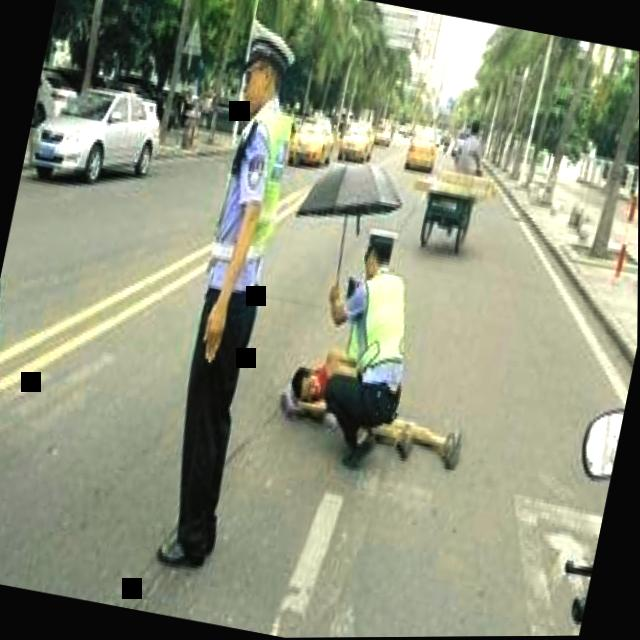Fall-Detected: (260, 320, 477, 490)
